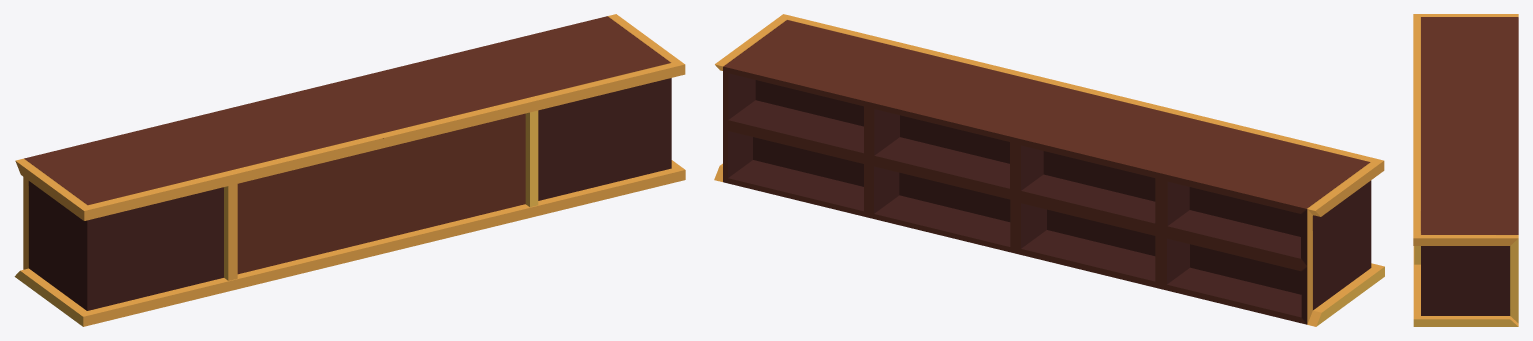
The model's file is counter.gltf.
3 views of the same model, side by side, from view 1: azimuth 30°, elevation 25°; view 2: azimuth 150°, elevation 25°; view 3: azimuth 270°, elevation 25° (orthographic). The views are drawn at different scales.
Parts seen in each view (by area): view 1: counter; view 2: counter; view 3: counter.
Part boxes in pixels (x1,y1,x2,y2): counter: (14,14,685,326); counter: (714,14,1384,326); counter: (1413,14,1518,326).
Bounding box in the file's own units: 5.97 × 1.1 × 1.18.
1 material, 1 textured.
